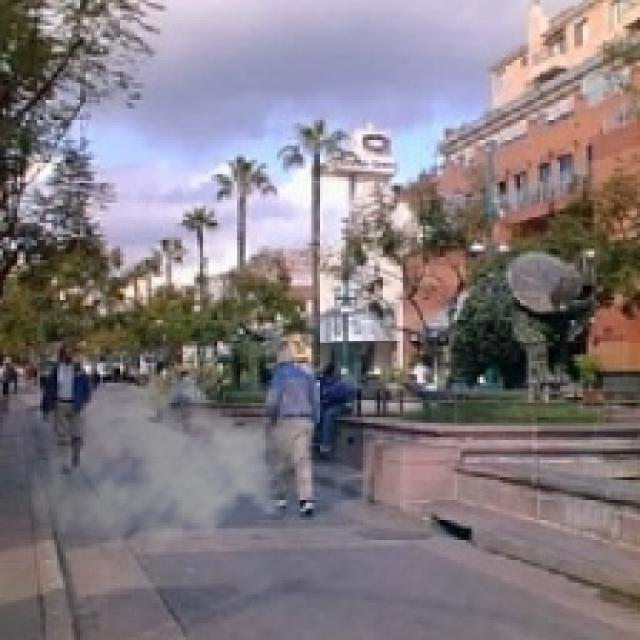Smoke: (25, 368, 308, 568)
